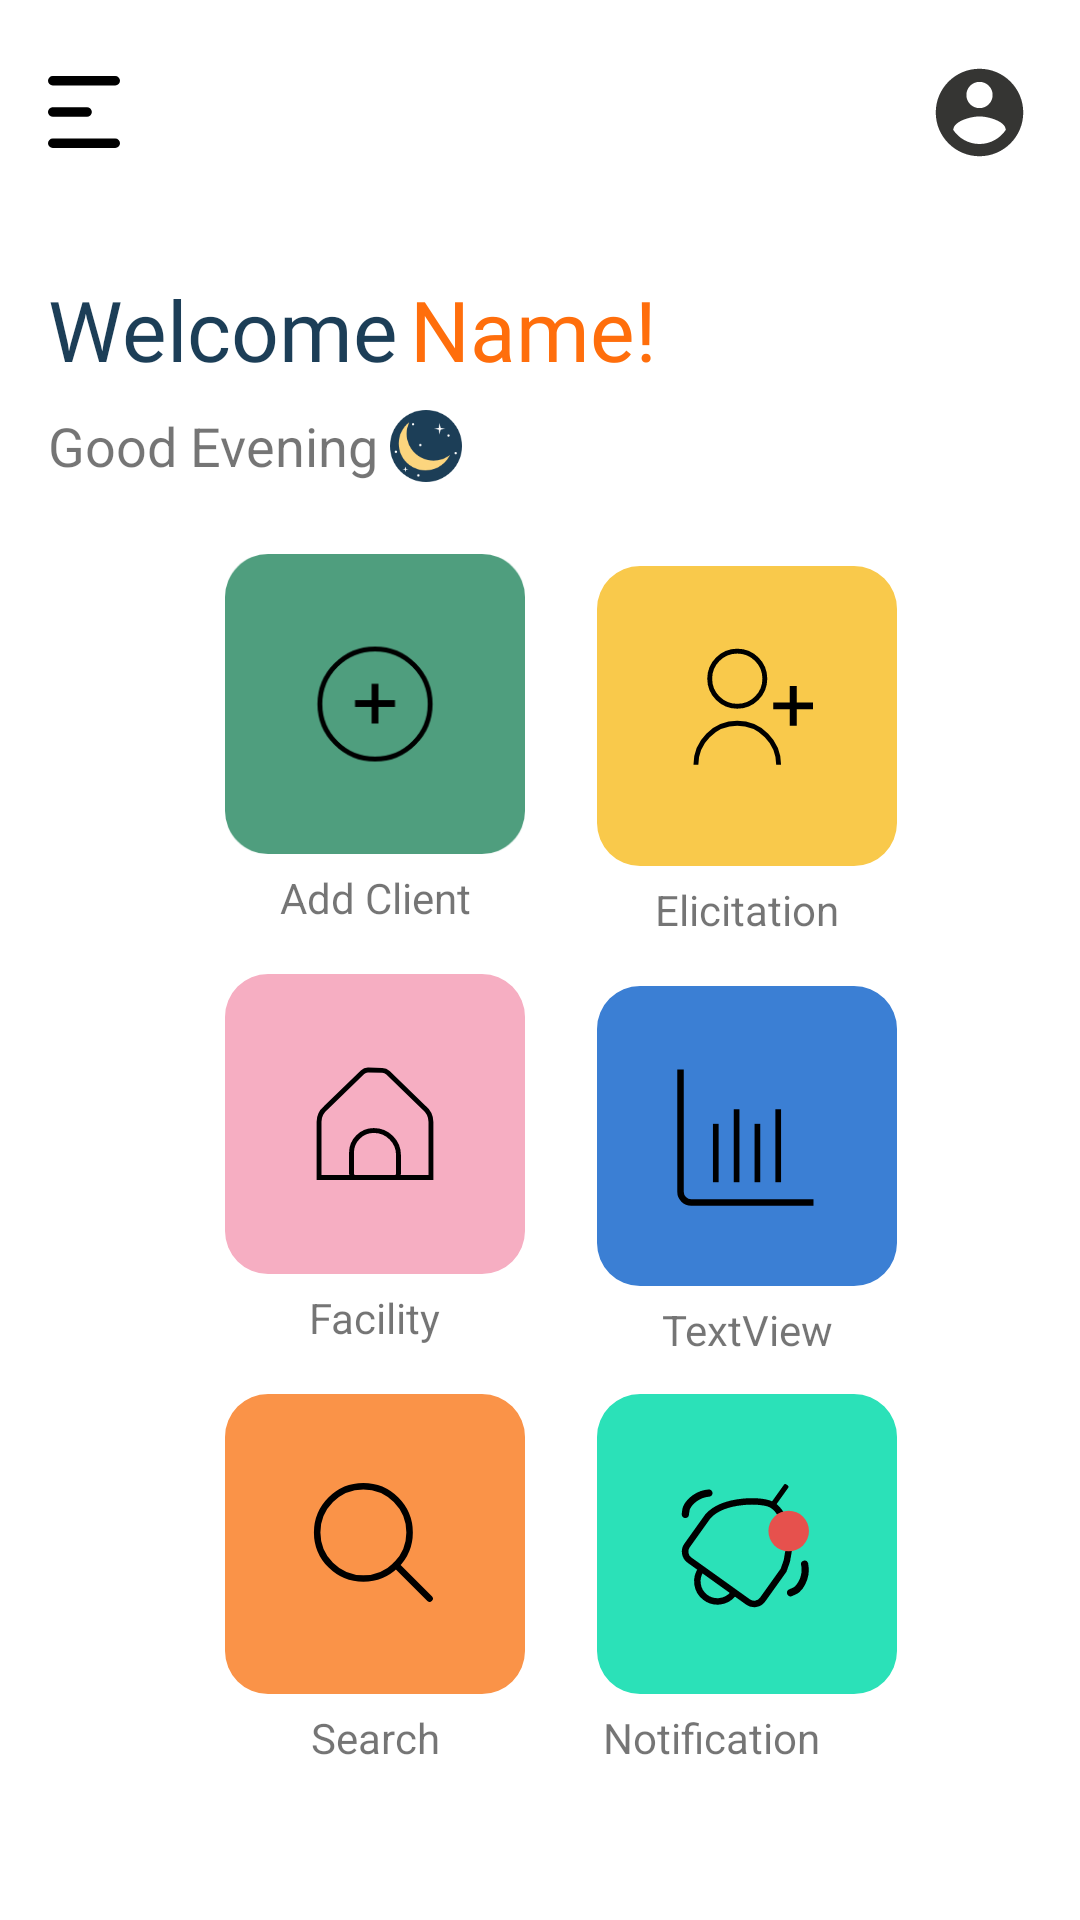

Locate icon controls on the screen. Image size 1080*1920, boxes as bbox=[x1, y1, x2, y2].
menu: bbox=[48, 76, 120, 148]
night: bbox=[390, 410, 462, 482]
profile: bbox=[935, 68, 1024, 157]
